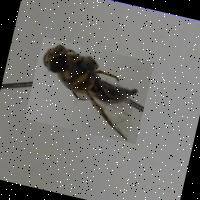Oriental-fruit-fly: (24, 37, 154, 144)
